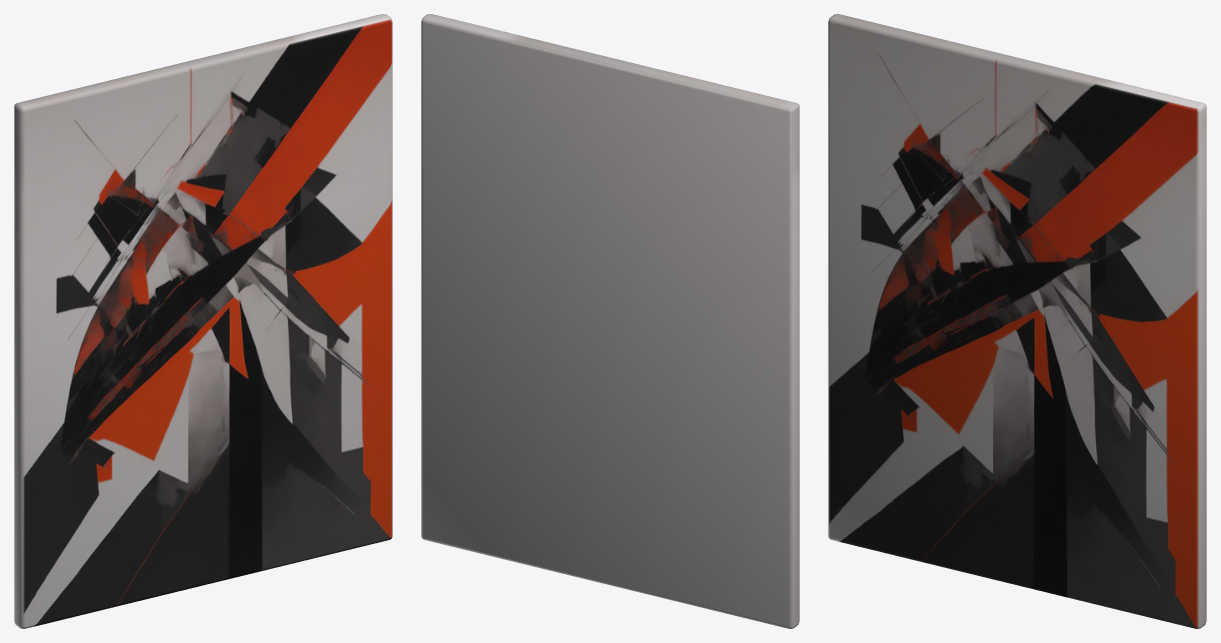
Rendered from Painiting.fbx.
The picture shows the model from 3 angles, left to right: view 1: azimuth 30°, elevation 25°; view 2: azimuth 150°, elevation 25°; view 3: azimuth 330°, elevation 25°; orthographic projection.
Parts seen in each view (by area): view 1: Painting; view 2: Painting; view 3: Painting.
Boxes of the visible parts, box(x1,y1,x2,y2) form: Painting: box(14, 14, 392, 628); Painting: box(421, 14, 799, 628); Painting: box(828, 14, 1206, 628).
Bounding box in the file's own units: 142 × 191 × 6.07.
1 material, 1 textured.
